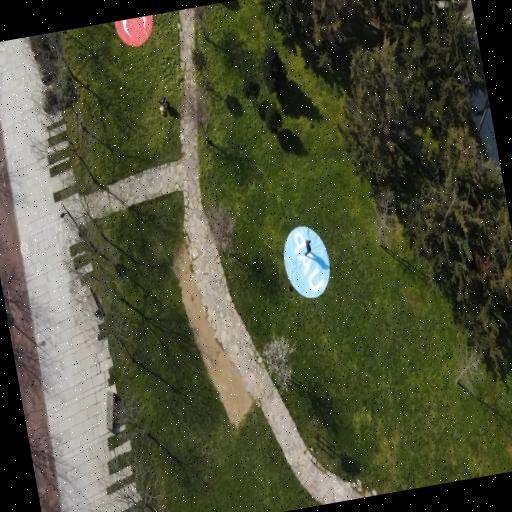UAI: (114, 14, 153, 46)
UAP: (284, 226, 330, 296)
person: (305, 240, 310, 256)
